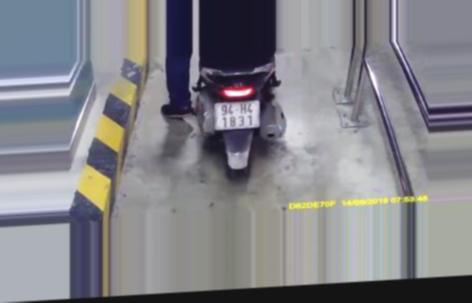License_Plate: (211, 95, 266, 135)
